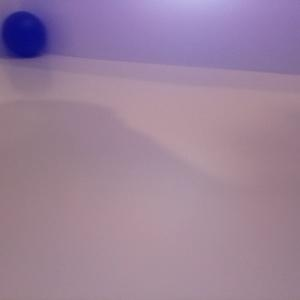dead_ball: (1, 9, 48, 58)
